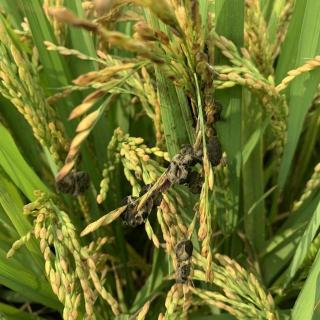Gosong-Palsu: (169, 136, 226, 192), (118, 183, 162, 227), (56, 169, 92, 196), (172, 238, 194, 282), (198, 96, 224, 126)
